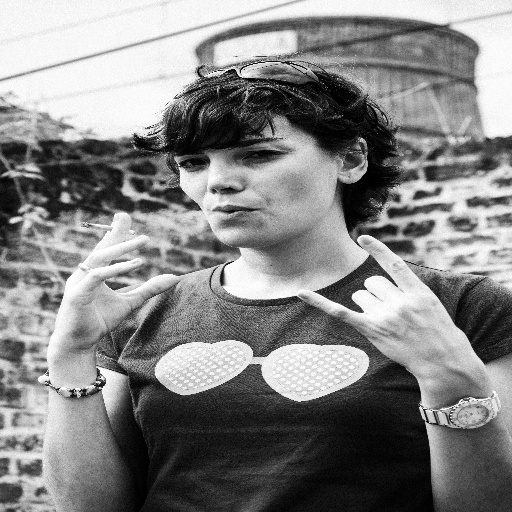hand: (293, 233, 475, 379), (60, 199, 166, 326)
